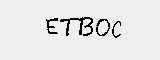В: (77, 12, 98, 39)
Е: (44, 15, 63, 37)
О: (95, 15, 111, 39)
С: (110, 18, 124, 41)
Т: (59, 15, 78, 37)
